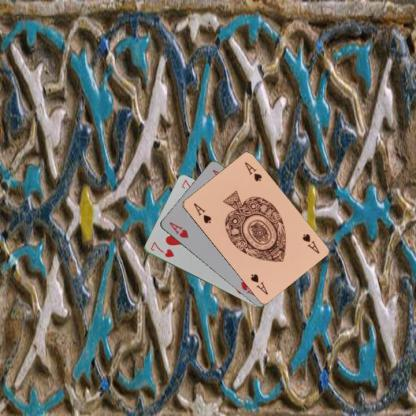7h: (147, 239, 175, 259)
Ah: (166, 219, 190, 240)
As: (299, 231, 321, 255), (191, 200, 212, 225)
